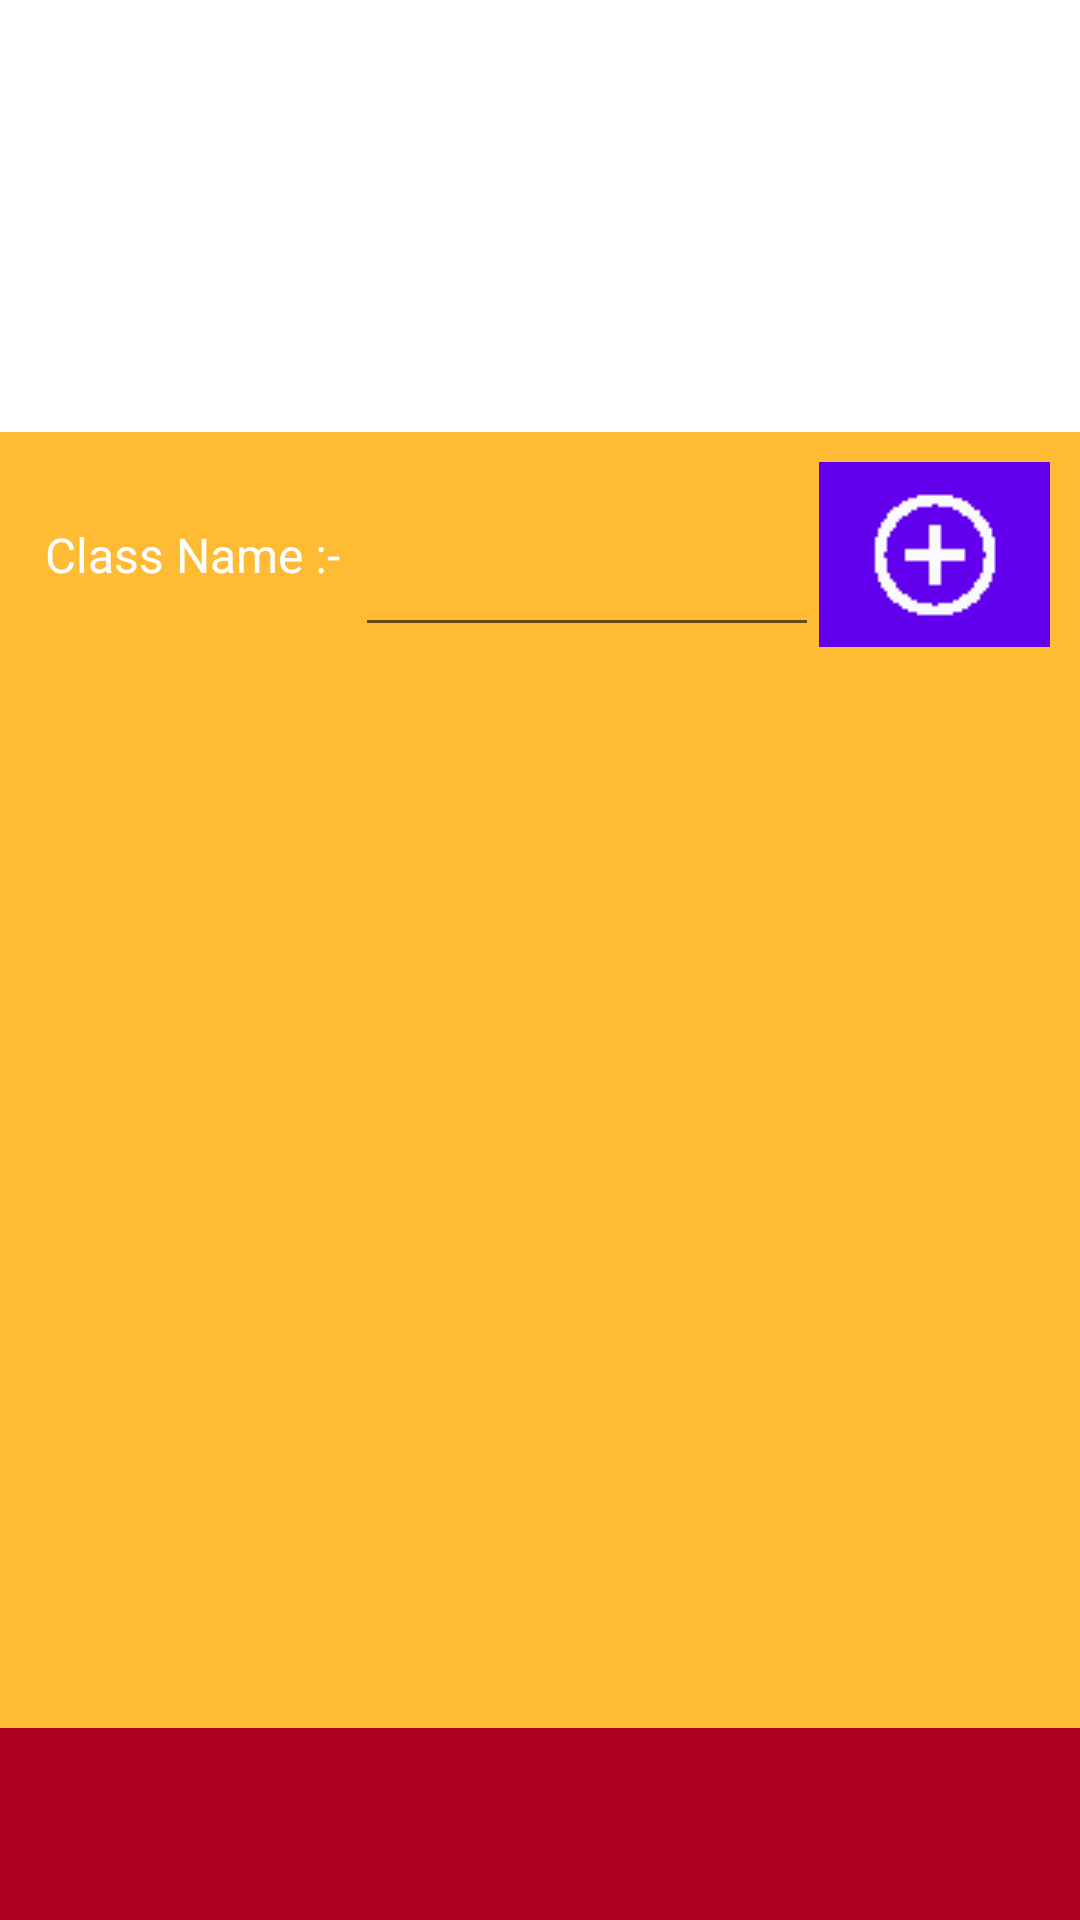

Icons on this 1080px×1920px Android screen, each with its box as (x1, y1, x2, y2):
add: (819, 462, 1050, 647)
